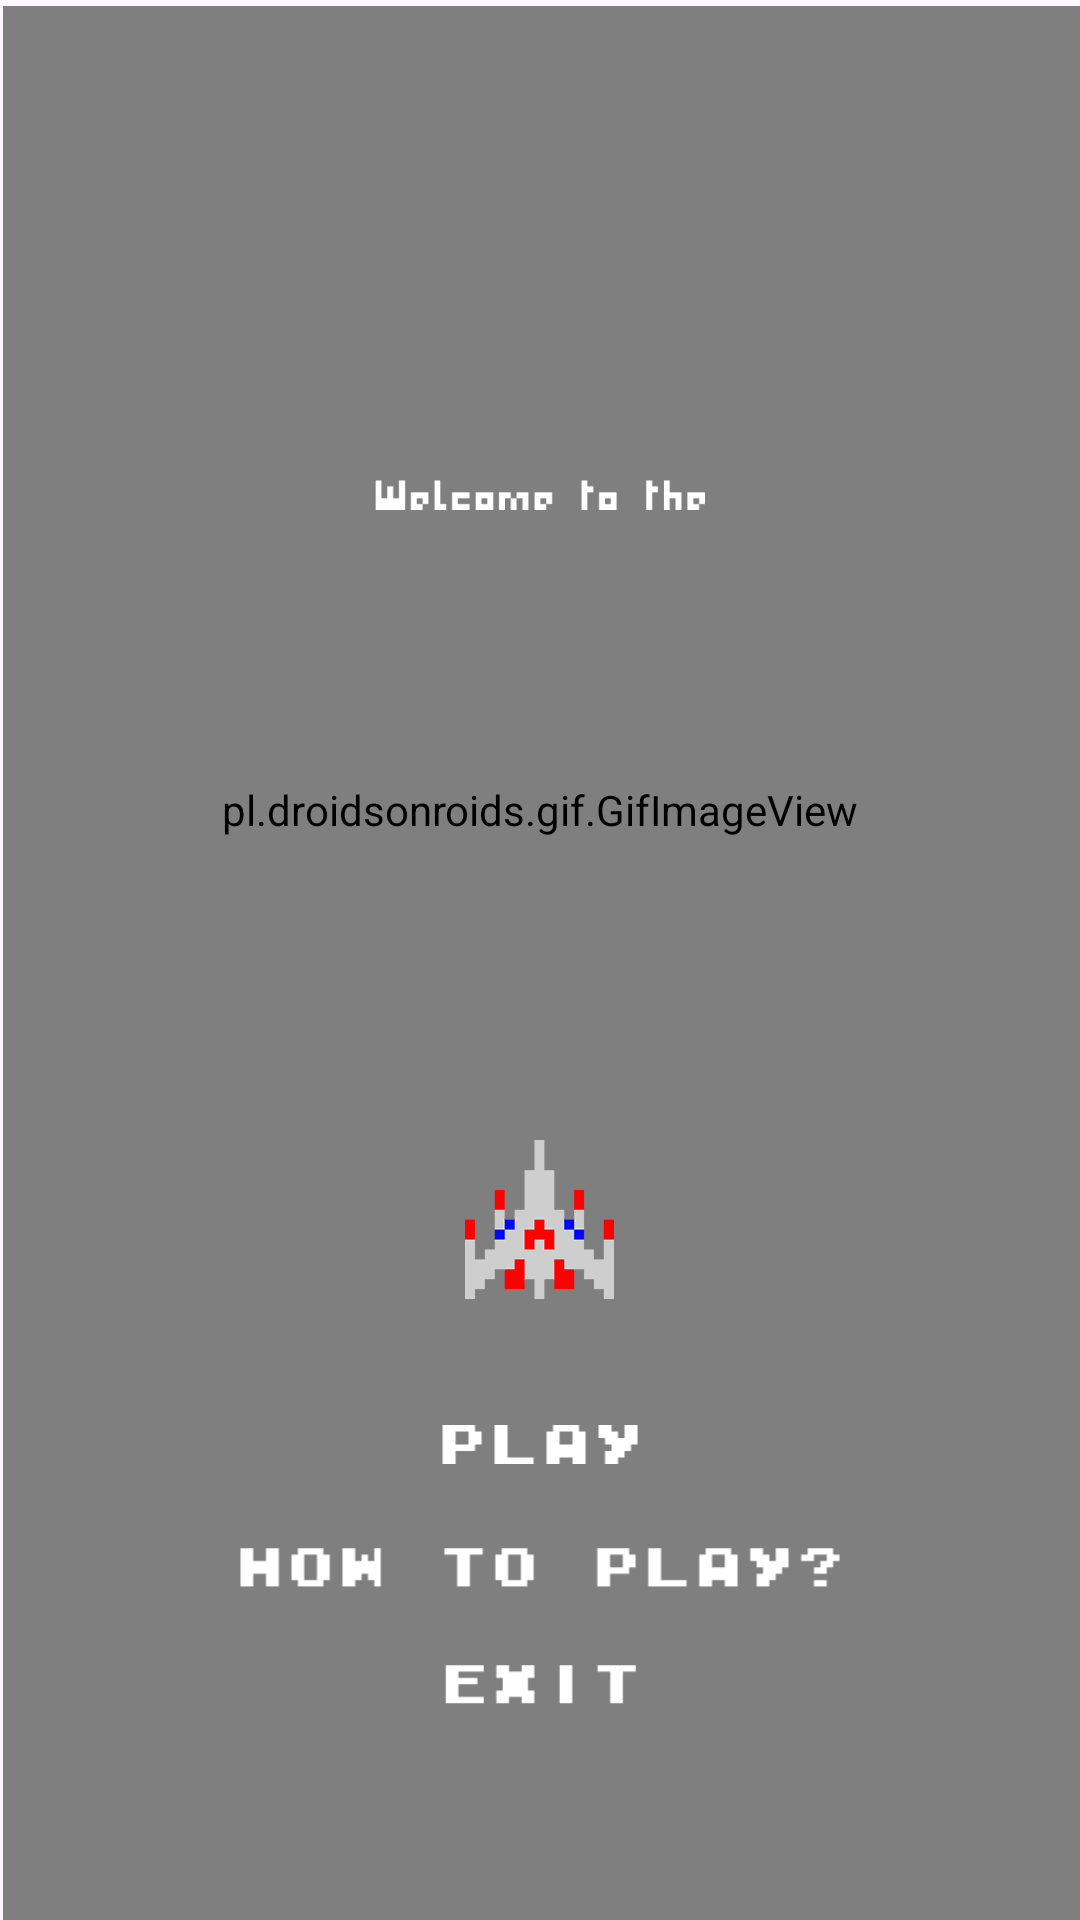

Where icons sit on this 1080px x 1920px app screen, as [left=x1, top=y1, right=x2, bottom=y2]:
jet: [left=465, top=1140, right=614, bottom=1299]
